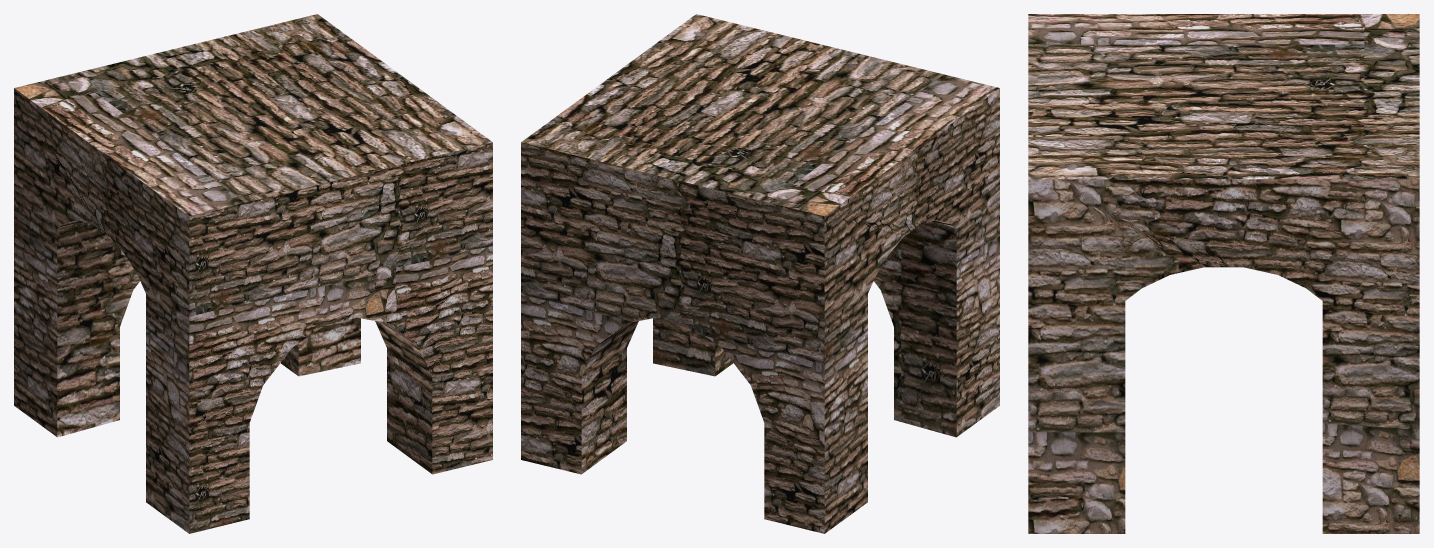
The model's file is tunnel-section.dae.
3 renders of one model, left to right at view 1: azimuth 30°, elevation 25°; view 2: azimuth 150°, elevation 25°; view 3: azimuth 270°, elevation 25°, orthographic. The views are drawn at different scales.
Visible parts, largest first — view 1: cube2; view 2: cube2; view 3: cube2.
Boxes of the visible parts, x1=… form: cube2: x1=14, y1=14, x2=492, y2=533; cube2: x1=521, y1=14, x2=999, y2=533; cube2: x1=1028, y1=14, x2=1419, y2=533.
Bounding box in the file's own units: 1.15 × 1.15 × 1.15.
Materials: 1 (1 with a texture image).
